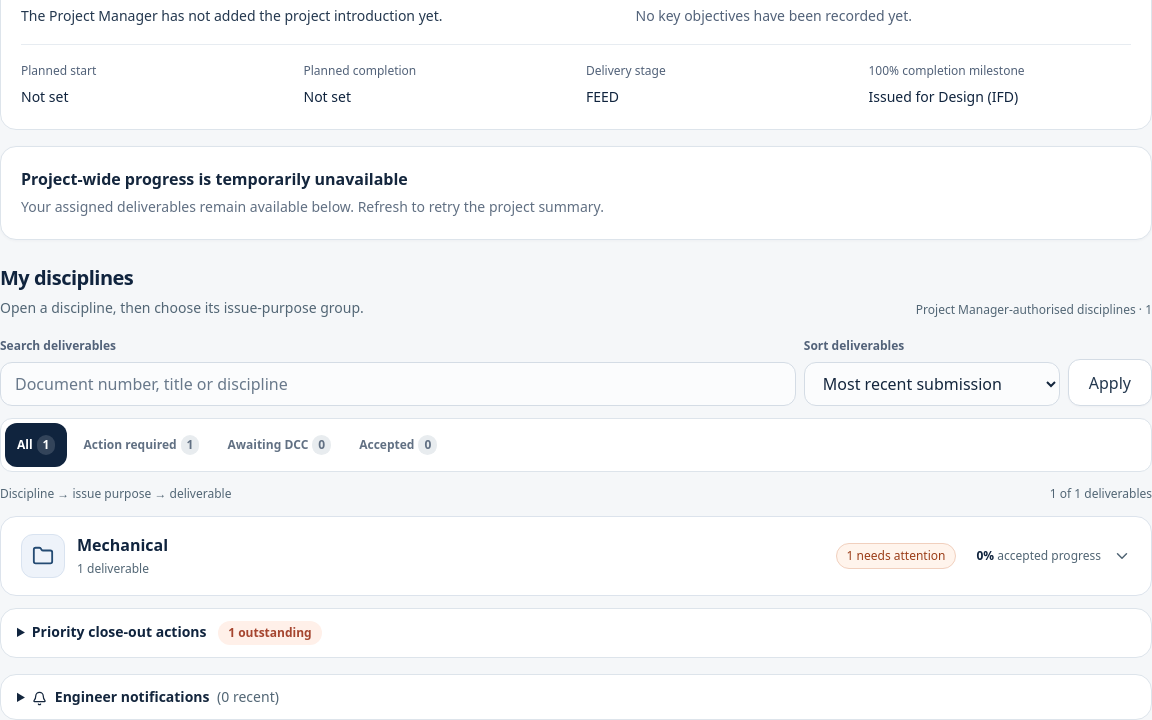
retains the direct request, upload and date-change routes and DCC feedback
The width and height of the screenshot is (1152, 720).
(page scrolled)
Click the heading that starts with "Mechanical" at (43, 556), box [21,534,1131,578]
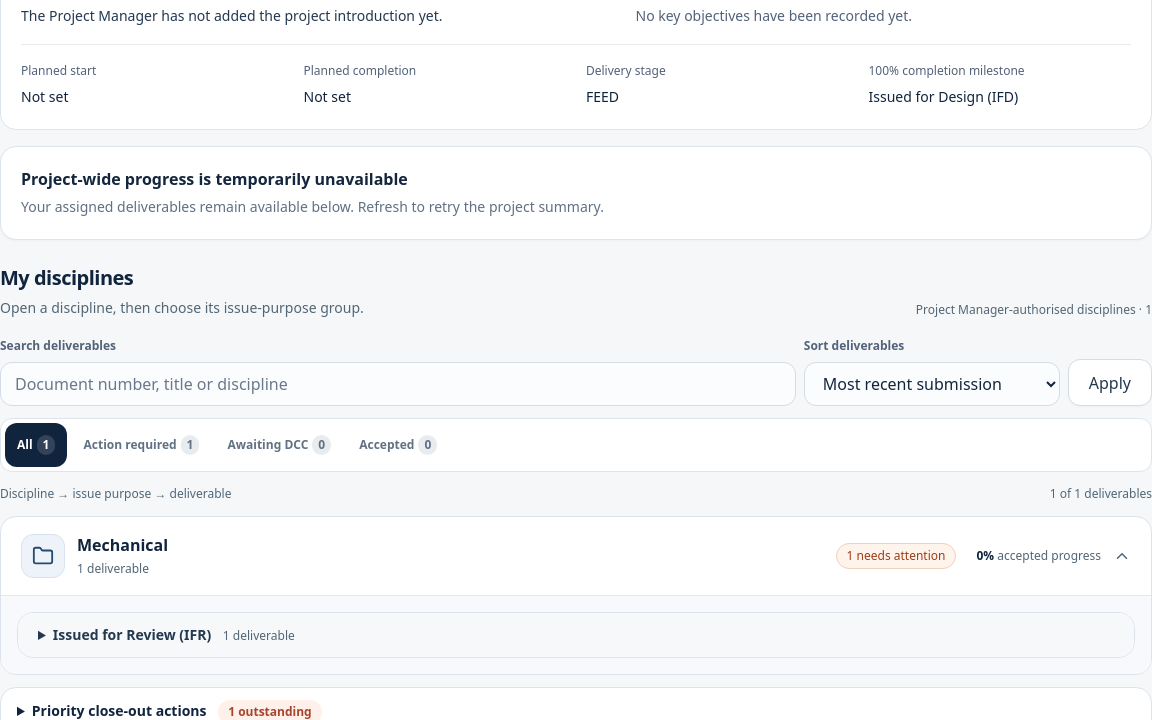
Click the heading "Issued for Review (IFR) 1 deliverable" at (132, 634), box [18,613,1134,657]
(page scrolled)
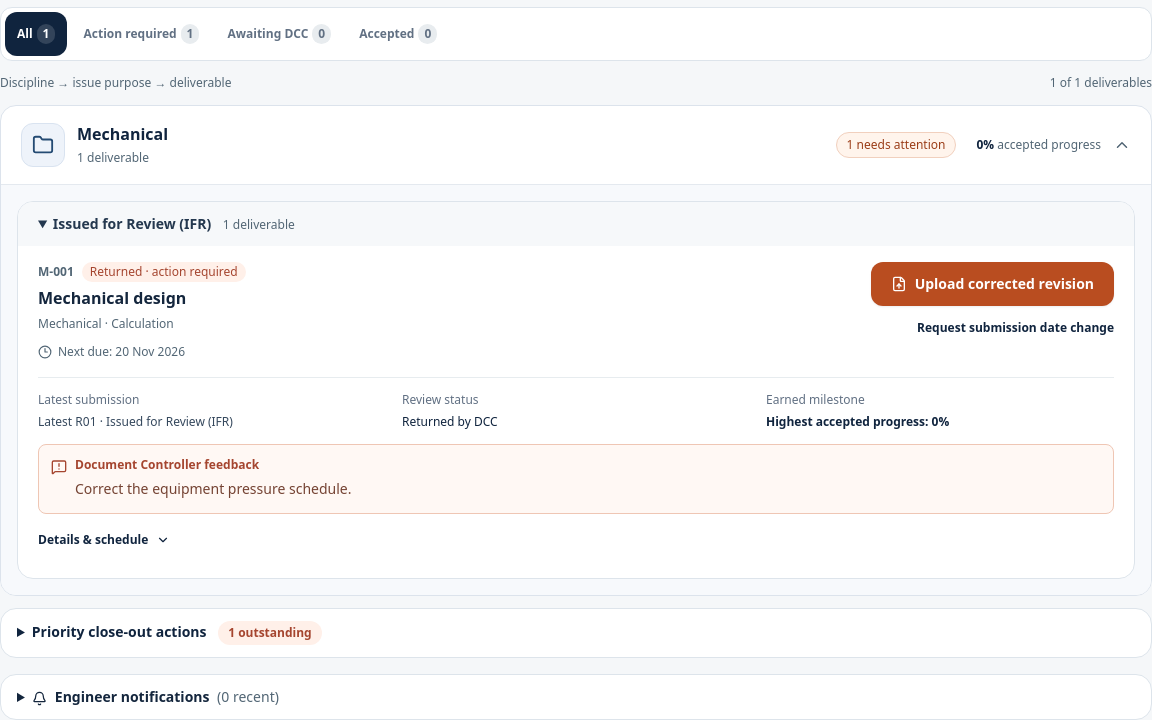
Expected: the element named "Deliverables by discipline" shows "Document Controller feedback", [75,456,259,473]
Expected: the element named "Deliverables by discipline" shows "Latest R01 · Issued for Review (IFR)", [38,413,233,430]
Expected: the element showing "Details & schedule" is shown, [37,531,170,556]
